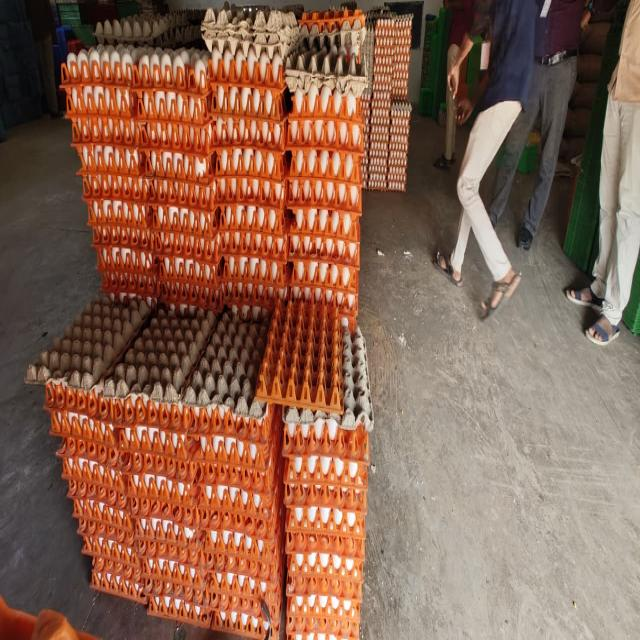egg_tray: (120, 401, 281, 627), (64, 45, 206, 298), (103, 310, 214, 625), (41, 299, 148, 600), (183, 315, 284, 622), (184, 316, 283, 616), (138, 460, 283, 630), (102, 309, 214, 526), (38, 298, 148, 505), (134, 49, 218, 310), (46, 382, 146, 600), (287, 51, 364, 323), (210, 45, 288, 309), (283, 331, 372, 561), (121, 402, 207, 625), (196, 407, 284, 622), (120, 419, 210, 625), (283, 421, 368, 637), (283, 420, 368, 630), (288, 86, 363, 324), (50, 409, 142, 598), (188, 405, 283, 581), (45, 380, 132, 553), (46, 398, 136, 564), (58, 439, 146, 600), (283, 331, 372, 490), (198, 455, 284, 619), (197, 464, 284, 622), (288, 85, 363, 266), (186, 406, 282, 540), (210, 46, 288, 208), (202, 8, 288, 150), (62, 47, 144, 195), (285, 454, 367, 602), (78, 143, 155, 300), (198, 479, 284, 616), (25, 296, 148, 389), (198, 484, 284, 615), (183, 312, 268, 441), (112, 396, 196, 526), (136, 479, 210, 625), (134, 48, 214, 183), (104, 309, 214, 404), (62, 47, 143, 175), (256, 301, 343, 411), (185, 389, 279, 489), (196, 434, 282, 542), (83, 170, 155, 299), (283, 328, 373, 430), (288, 34, 366, 150), (85, 176, 156, 302), (68, 111, 143, 230), (196, 437, 282, 539), (134, 48, 214, 156), (286, 36, 364, 143), (208, 529, 284, 638), (290, 208, 358, 328), (46, 390, 124, 490), (127, 454, 198, 563), (220, 203, 290, 309), (152, 203, 220, 312), (284, 419, 368, 507), (367, 18, 410, 189), (152, 205, 220, 311), (67, 85, 144, 176), (216, 112, 288, 205), (216, 113, 288, 206), (286, 14, 367, 95), (208, 552, 284, 638), (182, 318, 260, 401), (284, 461, 366, 539), (118, 401, 196, 483), (217, 112, 285, 205), (290, 234, 358, 322), (205, 563, 284, 638), (209, 46, 286, 121), (208, 552, 284, 627), (149, 595, 277, 639), (61, 45, 136, 120), (287, 85, 368, 154), (286, 29, 366, 95), (202, 3, 298, 57), (143, 558, 214, 628), (287, 145, 361, 212), (286, 34, 367, 95), (219, 203, 288, 274), (290, 258, 358, 329), (290, 257, 358, 328), (290, 258, 358, 328), (141, 118, 214, 183), (286, 578, 360, 639), (83, 536, 148, 603), (83, 534, 147, 602), (289, 207, 360, 267), (146, 177, 218, 236), (96, 228, 156, 297), (216, 146, 288, 203), (287, 551, 363, 605), (147, 152, 215, 210), (291, 233, 358, 289), (134, 47, 210, 96), (94, 11, 203, 45), (158, 254, 221, 312), (141, 109, 216, 157), (298, 10, 366, 62), (210, 44, 285, 91), (98, 246, 156, 304), (292, 88, 361, 136), (286, 595, 360, 639), (290, 148, 362, 192), (68, 109, 139, 151), (145, 142, 214, 184), (289, 145, 361, 184), (214, 114, 286, 153), (290, 84, 362, 122), (212, 84, 286, 120), (90, 555, 146, 602), (144, 177, 218, 212), (152, 202, 219, 240), (72, 142, 144, 176), (202, 4, 257, 48), (215, 173, 286, 207), (222, 253, 288, 289), (368, 91, 391, 189), (220, 201, 286, 235), (94, 16, 166, 44), (211, 610, 279, 639), (388, 102, 410, 190), (82, 176, 149, 202), (372, 19, 394, 95), (392, 15, 412, 98), (368, 90, 390, 165), (298, 9, 366, 32), (374, 18, 396, 76), (139, 521, 192, 545), (369, 93, 390, 150), (389, 102, 410, 156), (162, 19, 202, 47), (370, 92, 392, 141), (360, 92, 371, 188), (368, 125, 388, 176), (312, 130, 361, 150), (360, 24, 374, 91), (94, 145, 137, 163), (390, 99, 412, 134), (170, 9, 206, 29), (370, 125, 388, 164), (68, 85, 107, 103), (206, 379, 234, 404), (360, 91, 372, 148), (368, 157, 388, 189), (390, 131, 408, 165), (208, 554, 244, 570), (388, 158, 406, 189), (390, 99, 412, 124), (388, 152, 407, 180), (368, 164, 388, 190), (366, 7, 392, 27), (392, 66, 408, 98), (388, 161, 406, 189), (105, 506, 129, 526), (388, 161, 405, 189), (390, 142, 408, 168), (392, 70, 408, 98), (210, 529, 245, 541), (327, 456, 349, 475), (68, 85, 84, 110), (387, 169, 406, 190), (94, 229, 120, 244), (74, 499, 104, 512), (208, 536, 228, 554), (322, 553, 352, 565), (294, 456, 316, 472), (137, 0, 154, 20), (345, 51, 357, 78), (158, 124, 172, 146), (251, 539, 276, 551), (290, 202, 315, 214), (343, 496, 364, 510), (168, 92, 185, 109), (296, 552, 318, 565), (369, 174, 388, 189), (187, 102, 202, 118), (97, 492, 114, 506), (362, 153, 368, 189), (100, 422, 113, 438), (246, 559, 258, 576), (207, 558, 228, 567), (107, 86, 128, 95), (334, 571, 361, 578), (362, 158, 368, 189), (216, 560, 236, 569), (128, 239, 149, 247), (144, 476, 158, 488), (186, 97, 197, 112), (342, 211, 352, 227), (320, 207, 328, 227), (264, 238, 286, 245), (390, 179, 405, 189), (202, 115, 212, 130), (192, 121, 200, 139), (75, 442, 92, 450), (354, 496, 365, 508), (82, 86, 92, 99), (48, 383, 58, 396), (260, 538, 273, 548), (220, 437, 229, 451), (176, 532, 190, 541), (229, 549, 241, 559), (344, 125, 352, 139), (248, 451, 255, 466), (188, 98, 195, 112), (236, 440, 248, 448), (164, 509, 176, 517), (247, 551, 256, 561), (292, 154, 298, 169), (131, 495, 140, 505), (124, 211, 138, 217), (260, 11, 266, 25), (183, 125, 191, 135), (26, 367, 32, 380), (145, 531, 152, 542), (169, 96, 180, 103), (234, 365, 241, 376), (238, 267, 246, 276), (134, 222, 146, 228), (269, 567, 275, 578), (225, 266, 236, 272), (184, 515, 192, 523), (134, 490, 142, 498), (273, 427, 281, 435), (178, 110, 187, 117), (350, 432, 362, 437), (228, 596, 238, 602), (86, 514, 100, 518), (122, 453, 129, 461), (272, 443, 279, 451), (174, 123, 179, 134), (244, 443, 251, 450), (89, 391, 96, 398), (308, 126, 314, 134), (78, 490, 86, 496), (184, 126, 192, 132), (308, 220, 314, 228), (165, 457, 171, 465), (246, 353, 250, 364), (183, 532, 189, 539), (204, 133, 211, 139), (162, 122, 166, 132), (332, 209, 340, 214), (178, 485, 182, 494), (292, 498, 304, 501), (114, 522, 123, 526), (81, 122, 85, 131), (137, 256, 144, 261), (63, 389, 68, 396), (316, 147, 327, 150), (245, 529, 256, 532), (303, 209, 309, 214), (221, 238, 226, 244), (148, 123, 154, 128), (102, 255, 108, 260), (106, 543, 112, 548), (254, 197, 260, 202), (276, 478, 281, 484), (122, 529, 128, 534), (150, 512, 160, 515), (130, 481, 135, 487), (216, 379, 221, 385), (197, 134, 202, 139), (147, 531, 152, 536), (240, 578, 243, 586), (351, 441, 357, 445), (272, 575, 276, 581), (134, 507, 142, 510), (168, 487, 171, 495), (332, 224, 336, 230), (296, 218, 298, 230), (347, 530, 358, 532), (172, 598, 175, 605), (42, 375, 47, 379), (204, 356, 208, 361), (138, 0, 142, 5), (205, 141, 210, 145), (173, 128, 178, 132), (277, 465, 281, 470), (248, 624, 252, 629), (328, 214, 330, 223), (225, 442, 228, 448), (278, 497, 281, 503), (116, 486, 122, 489), (79, 519, 82, 525), (115, 457, 118, 463), (246, 620, 248, 629), (354, 219, 358, 223), (216, 382, 220, 386), (212, 439, 216, 443), (212, 407, 216, 411), (204, 148, 208, 152), (342, 65, 346, 69), (136, 398, 138, 406), (344, 501, 347, 506), (238, 578, 241, 583), (84, 147, 87, 152), (213, 407, 218, 410), (158, 98, 161, 103), (236, 404, 241, 407), (262, 327, 265, 332), (142, 211, 144, 218), (289, 585, 296, 587), (136, 476, 138, 483), (53, 389, 56, 393), (37, 375, 40, 379), (210, 361, 213, 365), (262, 274, 268, 276), (230, 445, 233, 449), (321, 463, 324, 467), (116, 123, 120, 126), (353, 216, 357, 219), (134, 475, 138, 478), (160, 107, 164, 110), (158, 405, 162, 408), (408, 40, 410, 45), (252, 471, 254, 476), (240, 443, 242, 448), (208, 132, 210, 137), (263, 556, 266, 559), (323, 442, 326, 445), (157, 92, 160, 95), (140, 505, 143, 508), (205, 376, 208, 379), (108, 194, 112, 196), (110, 511, 112, 515), (80, 492, 84, 494), (278, 246, 280, 250), (256, 274, 260, 276), (203, 443, 204, 451), (172, 540, 176, 542), (168, 539, 172, 541), (164, 496, 166, 500), (307, 42, 315, 43), (174, 166, 176, 170), (200, 408, 207, 409), (248, 547, 250, 550), (310, 211, 312, 214), (177, 152, 180, 154), (154, 150, 156, 153), (286, 426, 289, 428), (177, 412, 179, 415), (334, 504, 339, 505), (351, 531, 356, 532), (205, 35, 206, 40), (210, 167, 211, 172), (261, 575, 265, 576), (260, 571, 264, 572), (280, 536, 281, 540), (305, 13, 309, 14), (244, 620, 246, 622), (344, 213, 348, 214), (360, 509, 362, 511), (355, 634, 357, 636), (216, 408, 218, 410), (253, 446, 254, 450), (316, 549, 320, 550), (189, 98, 193, 99), (156, 91, 157, 95), (160, 146, 162, 148), (106, 552, 108, 554), (254, 89, 258, 90), (344, 52, 346, 54), (148, 106, 150, 108), (234, 534, 235, 538), (358, 142, 359, 145), (103, 118, 106, 119), (214, 542, 217, 543), (94, 536, 95, 539), (129, 531, 130, 534), (254, 89, 257, 90), (132, 475, 133, 478), (236, 542, 237, 544), (156, 531, 158, 532), (113, 193, 115, 194), (318, 497, 320, 498), (236, 588, 238, 589), (228, 584, 230, 585), (93, 496, 95, 497), (338, 152, 339, 154), (198, 393, 200, 394), (236, 627, 238, 628), (138, 527, 140, 528), (170, 97, 172, 98), (62, 402, 64, 403), (127, 126, 128, 128), (267, 90, 269, 91), (228, 555, 230, 556), (292, 429, 294, 430), (244, 582, 246, 583), (159, 509, 161, 510), (255, 89, 257, 90), (183, 114, 185, 115), (249, 542, 251, 543), (191, 505, 192, 506), (307, 494, 308, 495), (63, 382, 64, 383), (147, 582, 148, 583), (173, 507, 174, 508), (125, 233, 126, 234), (249, 89, 250, 90), (147, 486, 148, 487), (356, 222, 357, 223), (201, 442, 201, 443), (154, 526, 154, 526), (254, 621, 254, 625), (174, 376, 174, 378), (116, 580, 116, 582), (243, 164, 243, 165), (28, 373, 28, 378), (252, 402, 252, 403), (239, 451, 239, 452), (288, 468, 288, 468), (311, 426, 313, 426), (296, 27, 296, 28), (68, 88, 68, 89), (81, 52, 81, 56), (272, 612, 272, 612), (165, 140, 167, 140), (77, 109, 77, 110), (63, 70, 65, 70), (381, 140, 383, 140), (216, 447, 216, 451), (221, 472, 221, 474), (78, 512, 80, 512), (288, 72, 288, 72), (292, 64, 292, 67), (243, 88, 243, 89), (312, 426, 312, 426), (154, 102, 154, 106), (268, 90, 268, 91), (165, 98, 165, 100), (154, 98, 154, 99), (221, 536, 222, 536), (147, 470, 149, 470), (165, 412, 165, 412), (254, 410, 254, 411), (254, 363, 254, 366)
